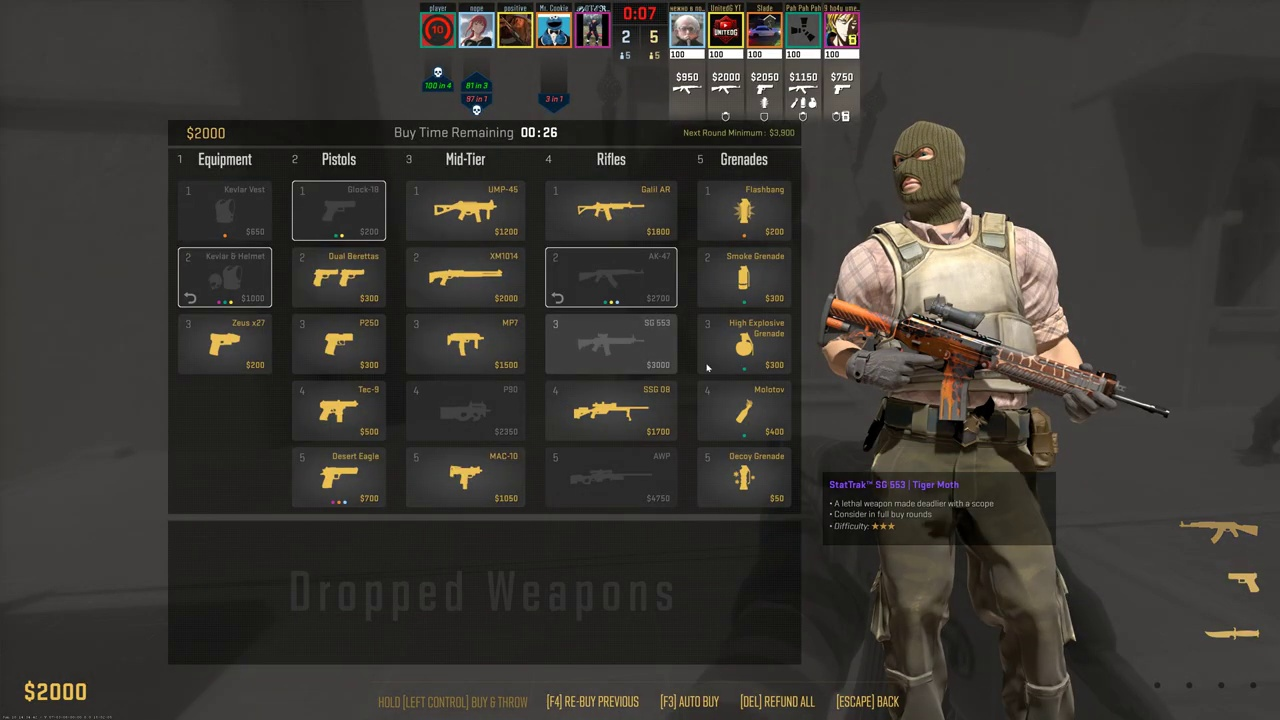Terrorist: (845, 124, 1089, 720)
